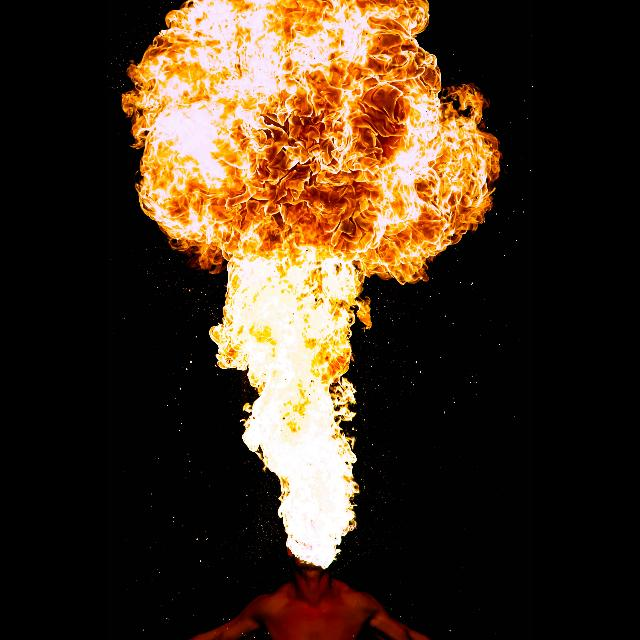fire: (124, 0, 501, 570)
